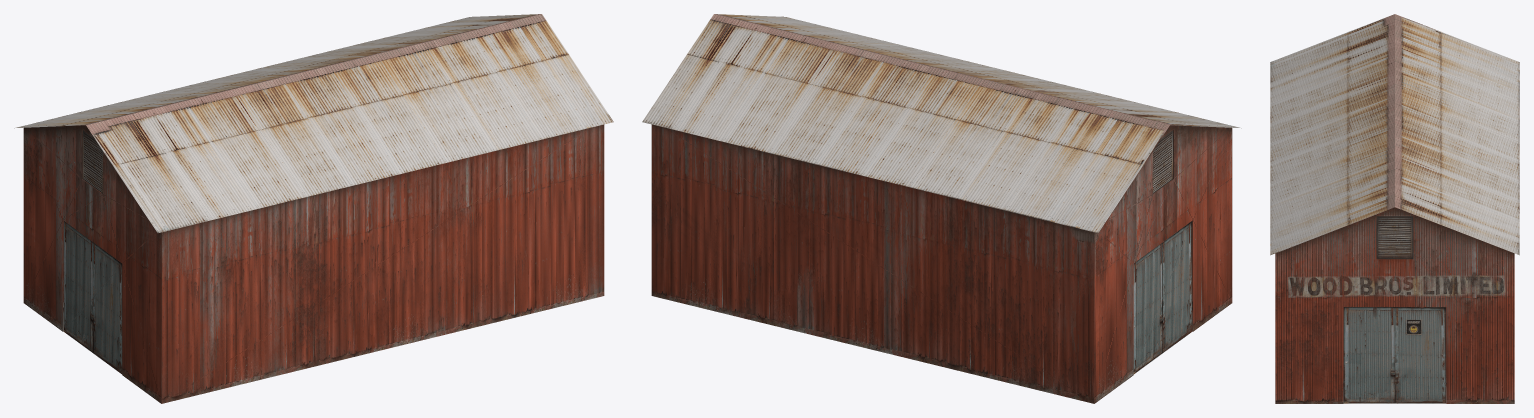
File: WareHouse_03.fbx
The picture shows the model from 3 angles, left to right: view 1: azimuth 30°, elevation 25°; view 2: azimuth 150°, elevation 25°; view 3: azimuth 270°, elevation 25°; orthographic projection. The views are drawn at different scales.
Parts seen in each view (by area): view 1: Ware_house_; view 2: Ware_house_; view 3: Ware_house_.
Boxes of the visible parts, x1,y1,x2,y2 form: Ware_house_: (14,14,613,403); Ware_house_: (642,14,1241,403); Ware_house_: (1270,14,1519,403).
Size of the model in its own units: 106 by 51.11 by 57.91.
Materials: 1 (1 with a texture image).
